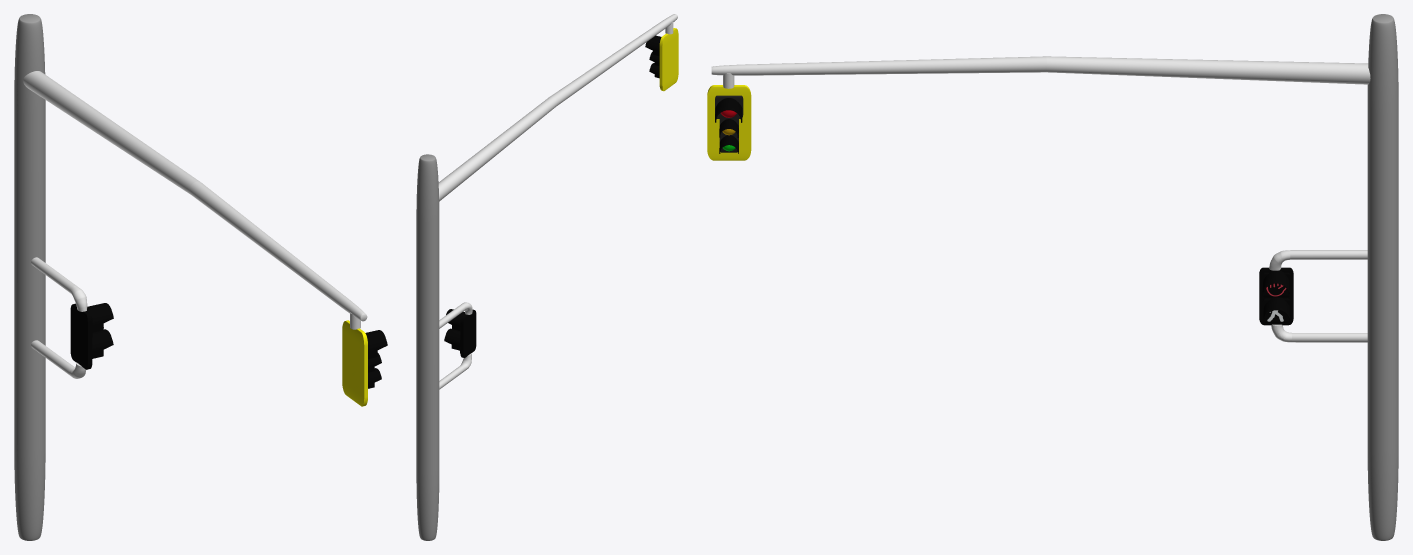
File: stoplight.fbx
The picture shows the model from 3 angles, left to right: view 1: azimuth 30°, elevation 25°; view 2: azimuth 150°, elevation 25°; view 3: azimuth 270°, elevation 25°; orthographic projection. The views are drawn at different scales.
Parts seen in each view (by area): view 1: Cylinder.001, Cylinder.003, Cube.001, Cube.003, Cylinder.004, Cylinder.005, NurbsCurve.006, NurbsCurve.007; view 2: Cylinder.001, Cylinder.003, Cube.001, Cube.003, Cylinder.005, Cylinder.004; view 3: Cylinder.001, Cylinder.003, Cube.001, Cylinder.004, Cylinder.005.
Boxes of the visible parts, box(x1,y1,x2,y2) form: Cylinder.001: box(14, 14, 45, 540); Cylinder.003: box(23, 71, 367, 321); Cube.001: box(342, 320, 367, 406); Cube.003: box(70, 303, 92, 369); Cylinder.004: box(31, 257, 87, 311); Cylinder.005: box(31, 340, 85, 378); NurbsCurve.006: box(87, 303, 113, 332); NurbsCurve.007: box(92, 329, 113, 358); Cylinder.001: box(416, 154, 439, 540); Cylinder.003: box(438, 14, 677, 201); Cube.001: box(659, 28, 678, 91); Cube.003: box(460, 309, 476, 357); Cylinder.005: box(439, 353, 471, 389); Cylinder.004: box(439, 302, 472, 328); Cylinder.001: box(1367, 14, 1398, 540); Cylinder.003: box(711, 56, 1370, 84); Cube.001: box(707, 85, 751, 160); Cylinder.004: box(1269, 250, 1367, 270); Cylinder.005: box(1271, 324, 1367, 342).
Bounding box in the file's own units: 201 × 2600 × 3143.
